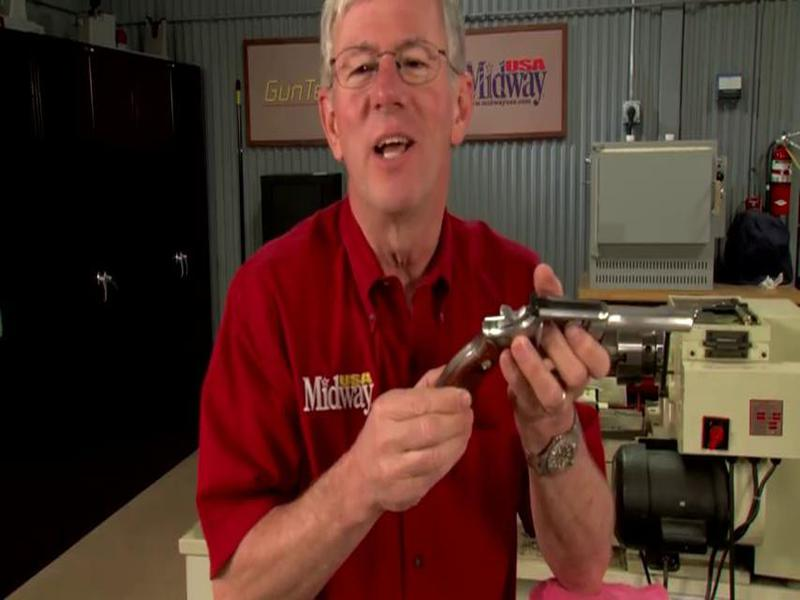Revolver: (391, 277, 722, 453)
